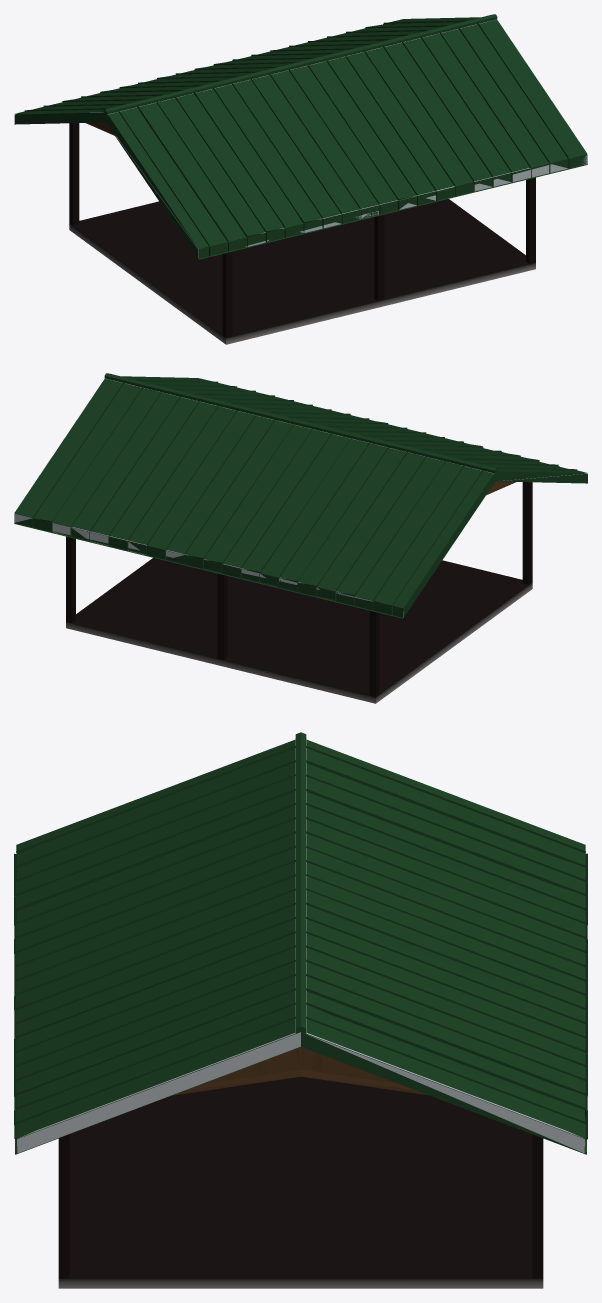
File: rest-shelter.zfix-v3.lod0.glb
3 renders of one model, top to bottom at view 1: azimuth 30°, elevation 25°; view 2: azimuth 150°, elevation 25°; view 3: azimuth 270°, elevation 25°, orthographic. The views are drawn at different scales.
Visible parts, largest first — view 1: Material2; view 2: Material2; view 3: Material2.
Part boxes in pixels (left/top/right/bottom): Material2: left=14, top=14, right=587, bottom=344; Material2: left=14, top=373, right=587, bottom=703; Material2: left=14, top=732, right=587, bottom=1288.
Bounding box in the file's own units: 10.35 × 4.77 × 8.53.
